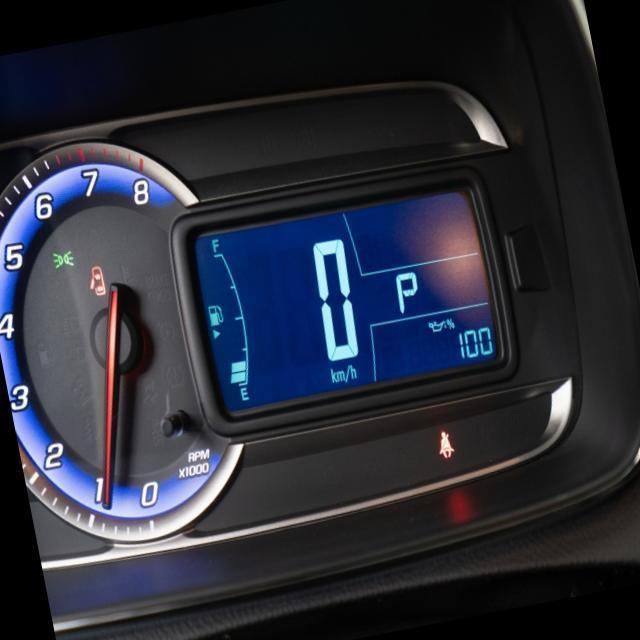Doors: (85, 264, 107, 298)
SideLamp: (50, 248, 74, 270)
